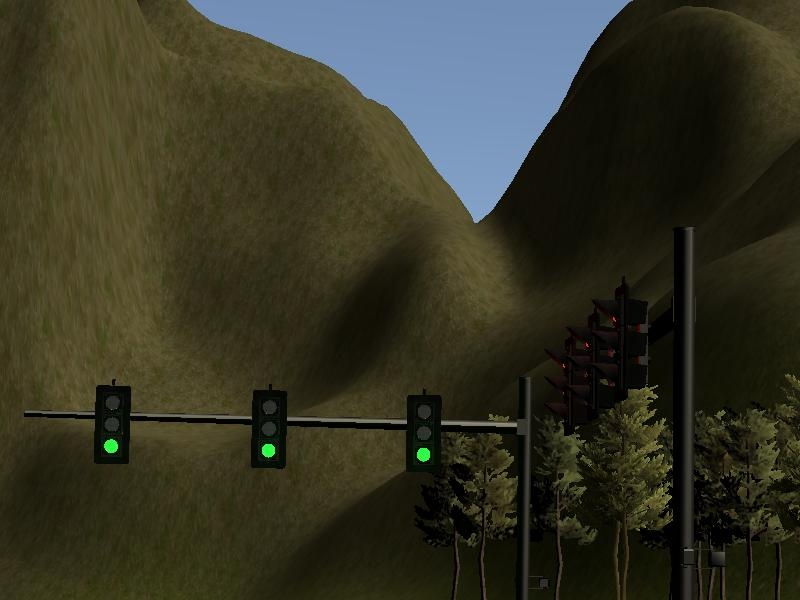GREEN: (94, 386, 130, 465), (250, 387, 286, 466), (405, 392, 441, 471)
